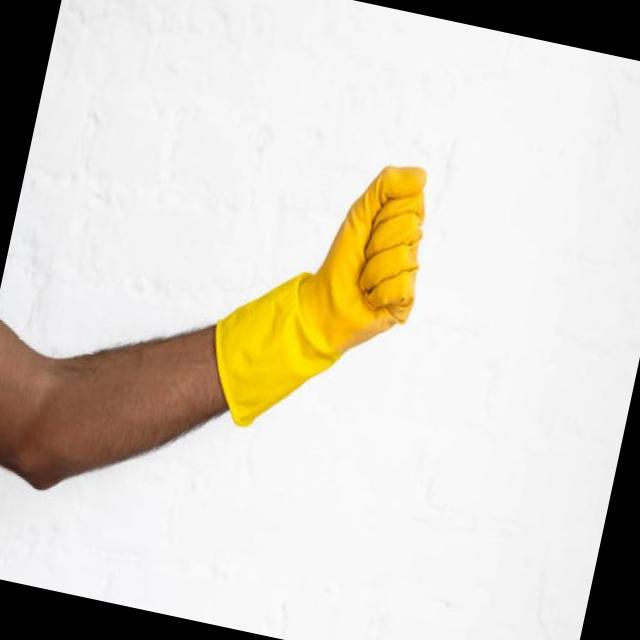Gloves: (192, 126, 442, 458)
